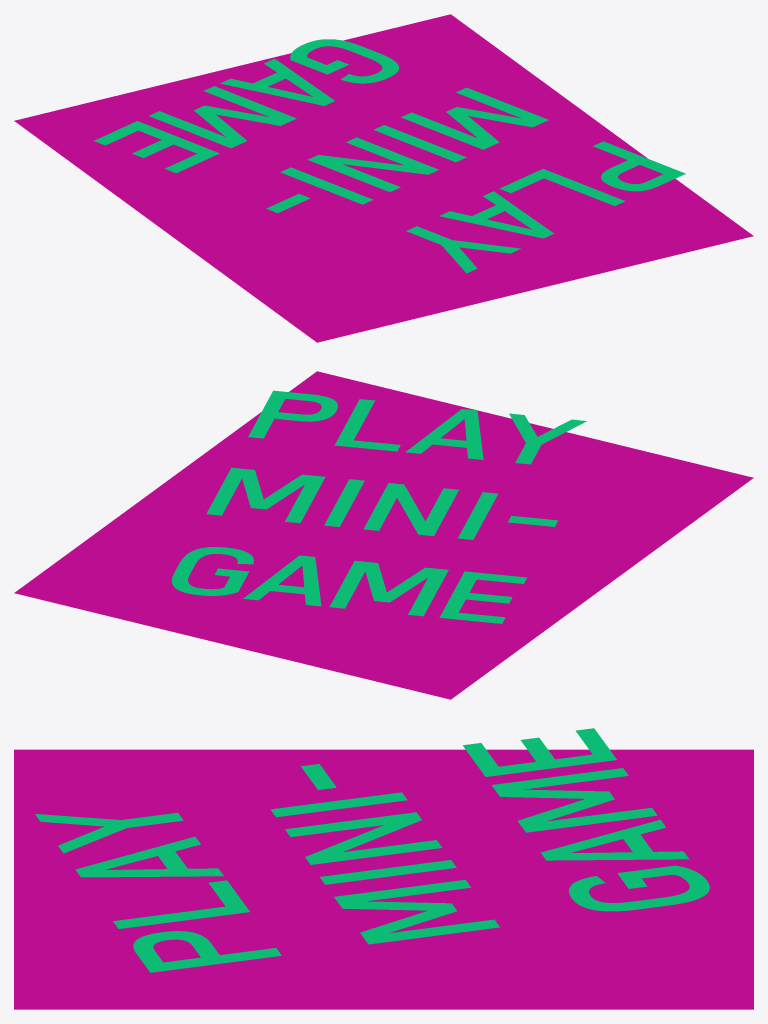
File: PMGposter1.FBX
3 renders of one model, top to bottom at view 1: azimuth 30°, elevation 25°; view 2: azimuth 150°, elevation 25°; view 3: azimuth 270°, elevation 25°, orthographic. The views are drawn at different scales.
Visible parts, largest first — view 1: Plane, Text; view 2: Plane, Text; view 3: Plane, Text.
Part boxes in pixels (bbox=[...]): Plane: bbox=[14, 14, 753, 342]; Text: bbox=[94, 39, 685, 273]; Plane: bbox=[14, 371, 753, 699]; Text: bbox=[171, 390, 586, 623]; Plane: bbox=[14, 749, 753, 1009]; Text: bbox=[35, 728, 709, 972].
Bounding box in the file's own units: 2.7 × 0.144 × 3.24.
